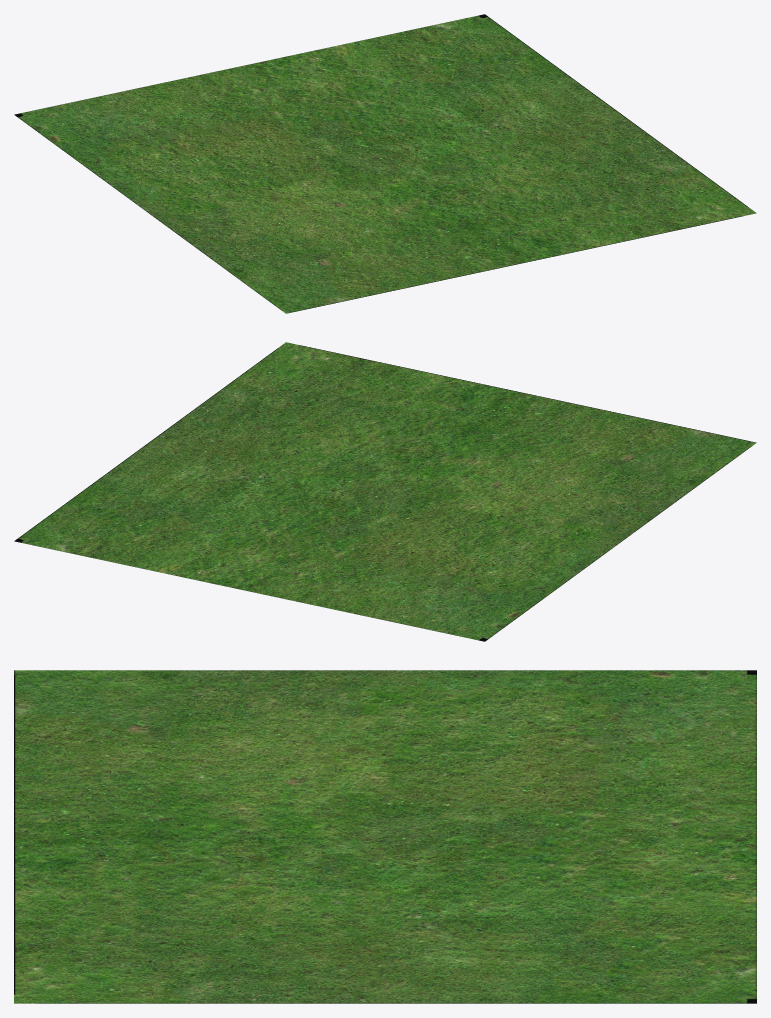
The model's file is game2ndscene.fbx.
3 renders of one model, top to bottom at view 1: azimuth 30°, elevation 25°; view 2: azimuth 150°, elevation 25°; view 3: azimuth 270°, elevation 25°, orthographic. The views are drawn at different scales.
Visible parts, largest first — view 1: 2; view 2: 2; view 3: 2.
Boxes of the visible parts, bbox=[...] form: 2: bbox=[14, 14, 756, 313]; 2: bbox=[14, 342, 756, 641]; 2: bbox=[14, 670, 756, 1003].
Bounding box in the file's own units: 457 × 13.39 × 457.
Materials: 1 (1 with a texture image).
